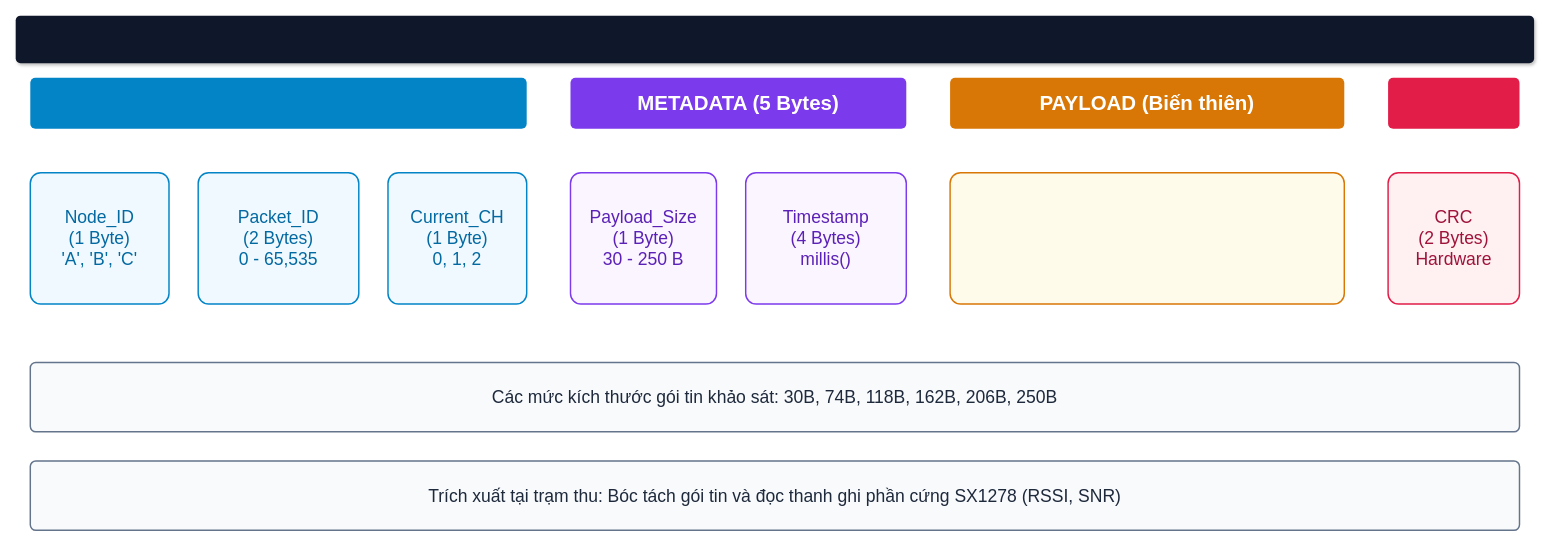
Some shapes in this 1551 by 543 pixel diagram are drawn without their labels. Each missing label, with the centre of its shape:
"CRC (2 Bytes)" belongs at pixel 1453 102.
"CẤU TRÚC ĐỊNH DẠNG KHUNG TRUYỀN GÓI TIN LORA" belongs at pixel 775 40.
"HEADER (4 Bytes)" belongs at pixel 278 102.
"Payload Data (21 - 241 Bytes) Bộ đệm dữ liệu" belongs at pixel 1147 238.
